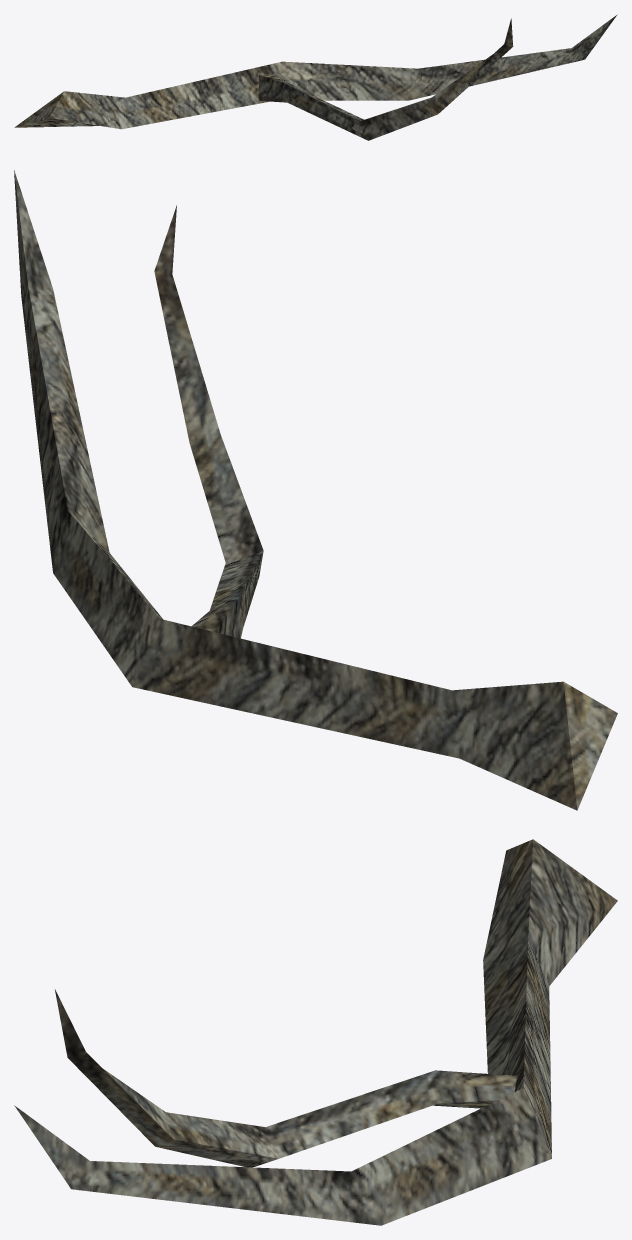
The model's file is Vatka_2.fbx.
3 renders of one model, top to bottom at view 1: azimuth 30°, elevation 25°; view 2: azimuth 150°, elevation 25°; view 3: azimuth 270°, elevation 25°, orthographic. The views are drawn at different scales.
Parts seen in each view (by area): view 1: Vetky:polySurface217; view 2: Vetky:polySurface217; view 3: Vetky:polySurface217.
Part boxes in pixels (x1,y1,x2,y2): Vetky:polySurface217: (14,14,617,140); Vetky:polySurface217: (14,170,617,810); Vetky:polySurface217: (14,839,617,1225).
Bounding box in the file's own units: 1911 × 555 × 1127.
